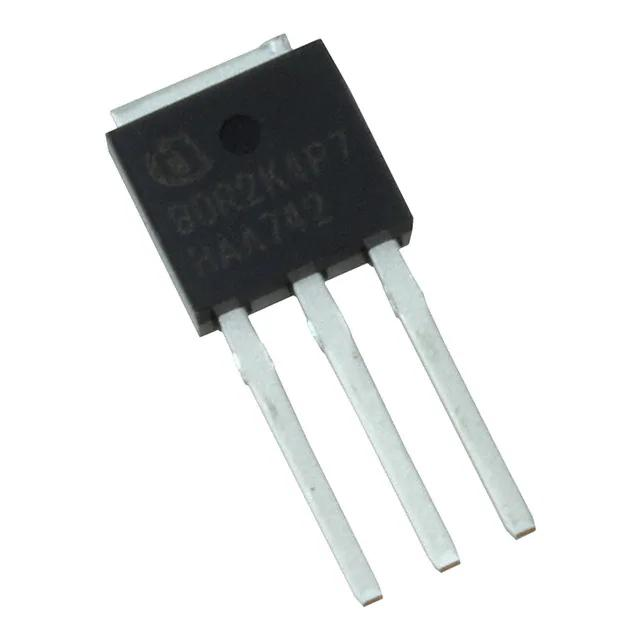Transistor: (110, 40, 523, 602)
